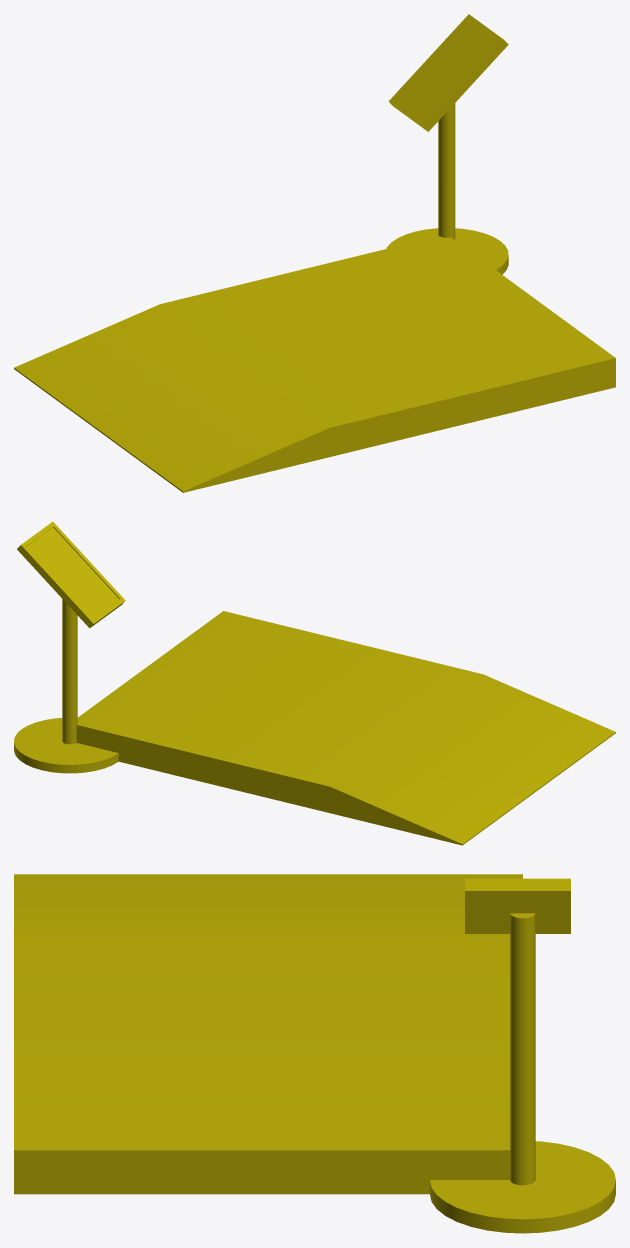
Rendered from AHDE_Eventplat&Panel_V1.fbx.
3 views of the same model, one above another, from view 1: azimuth 30°, elevation 25°; view 2: azimuth 150°, elevation 25°; view 3: azimuth 270°, elevation 25° (orthographic). The views are drawn at different scales.
Visible parts, largest first — view 1: pCube10, Panel; view 2: pCube10, Panel; view 3: pCube10, Panel.
Part boxes in pixels (x1,y1,x2,y2): pCube10: (14, 236, 615, 492); Panel: (386, 14, 508, 274); pCube10: (76, 611, 615, 845); Panel: (14, 521, 125, 773); pCube10: (14, 874, 522, 1194); Panel: (429, 878, 615, 1233).
Size of the model in its own units: 333 by 149 by 237.
